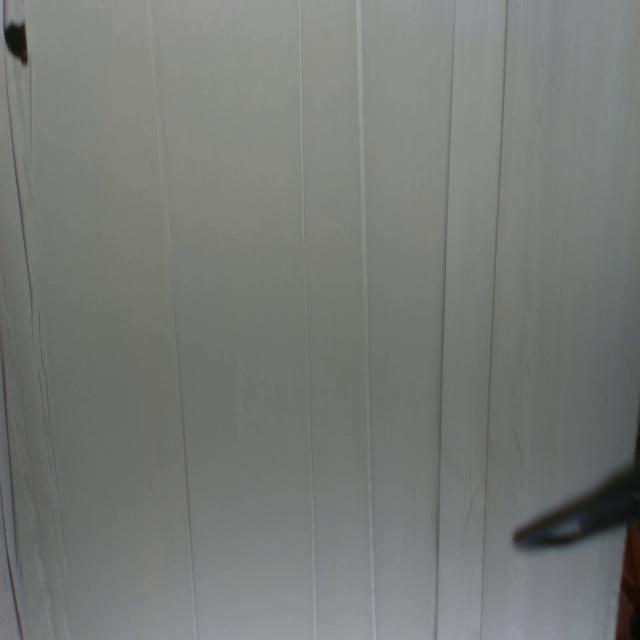crease: (145, 0, 200, 639), (478, 0, 508, 639), (433, 0, 457, 639), (296, 0, 319, 639), (356, 0, 378, 640), (4, 58, 34, 324), (1, 348, 21, 563), (35, 310, 59, 488), (0, 481, 24, 640)
hole: (1, 13, 29, 70)
